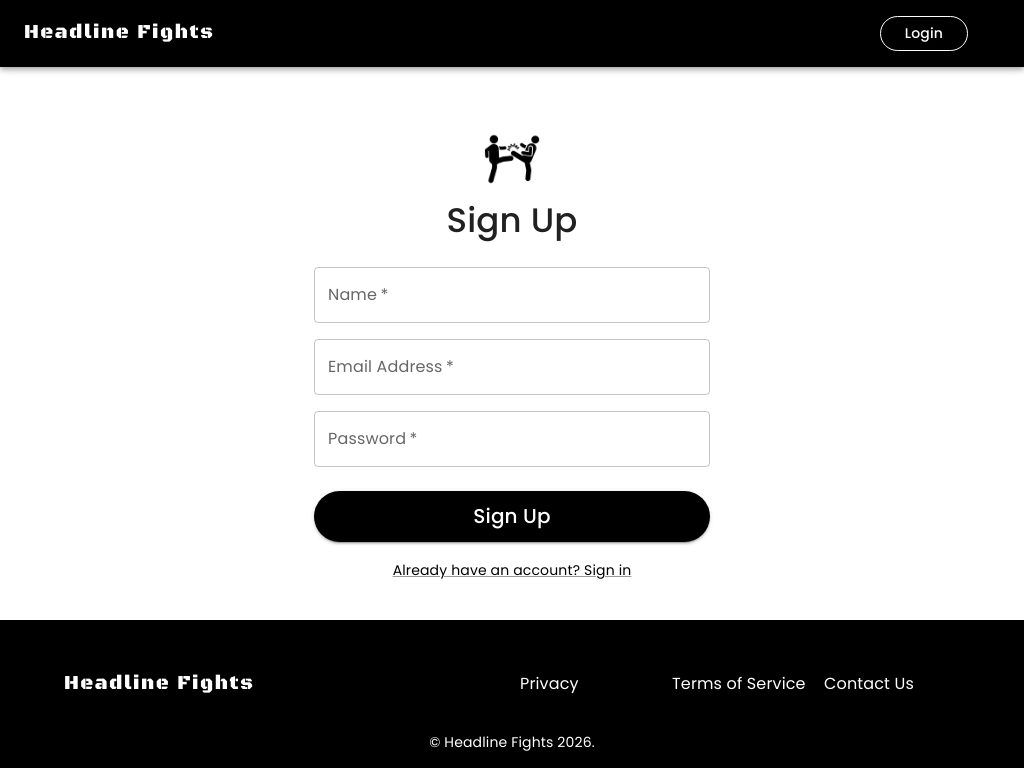
it: SignUp page › shows validation error for weak password
Type "Test User" into the field labelled "Name *" at (512, 296), box [314,268,710,324]
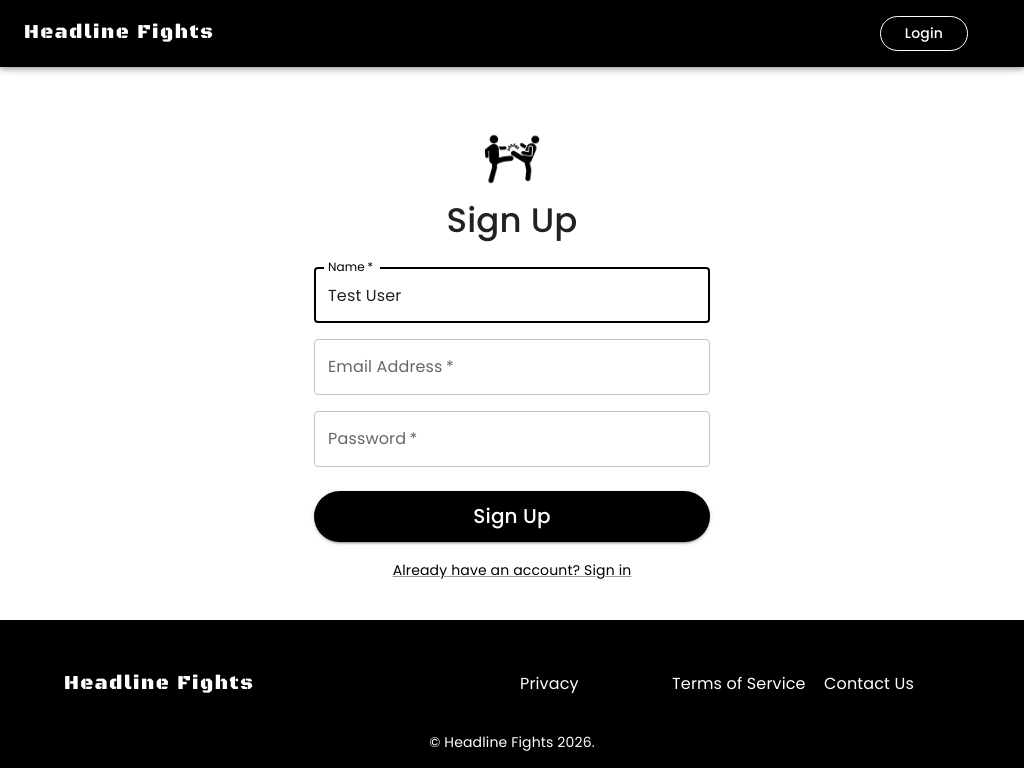
Type "test@example.com" into the field labelled "Email Address *" at (512, 368), box [314,340,710,396]
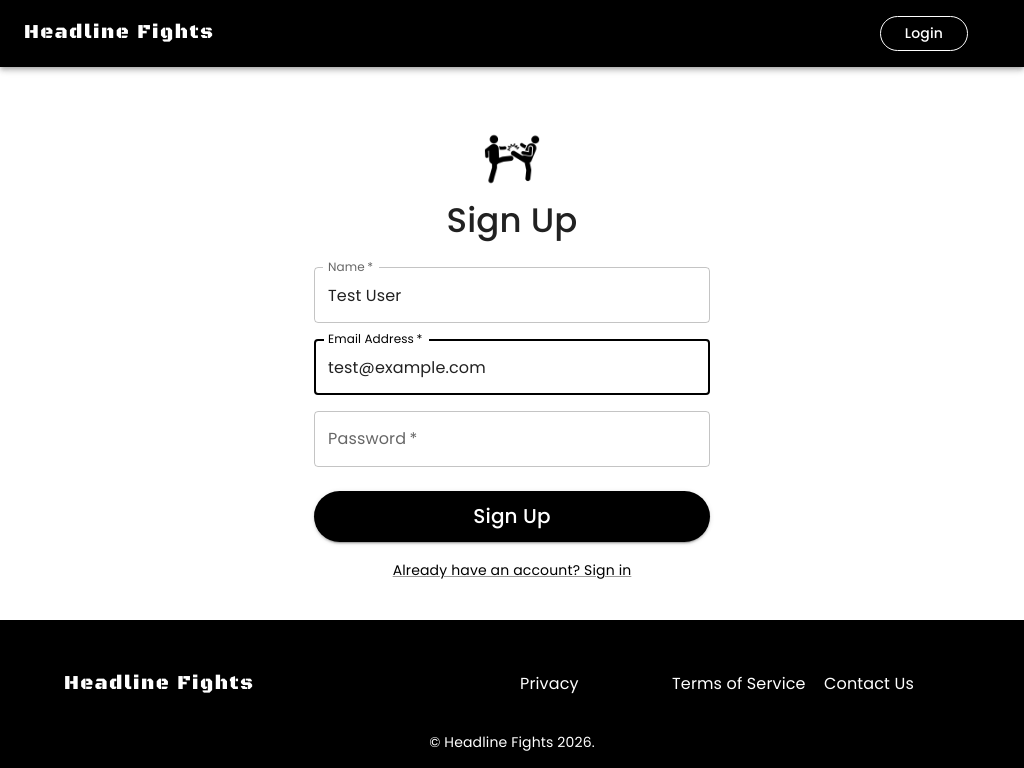
Type "weak" into the password field labelled "Password *" at (512, 440), box [314,412,710,468]
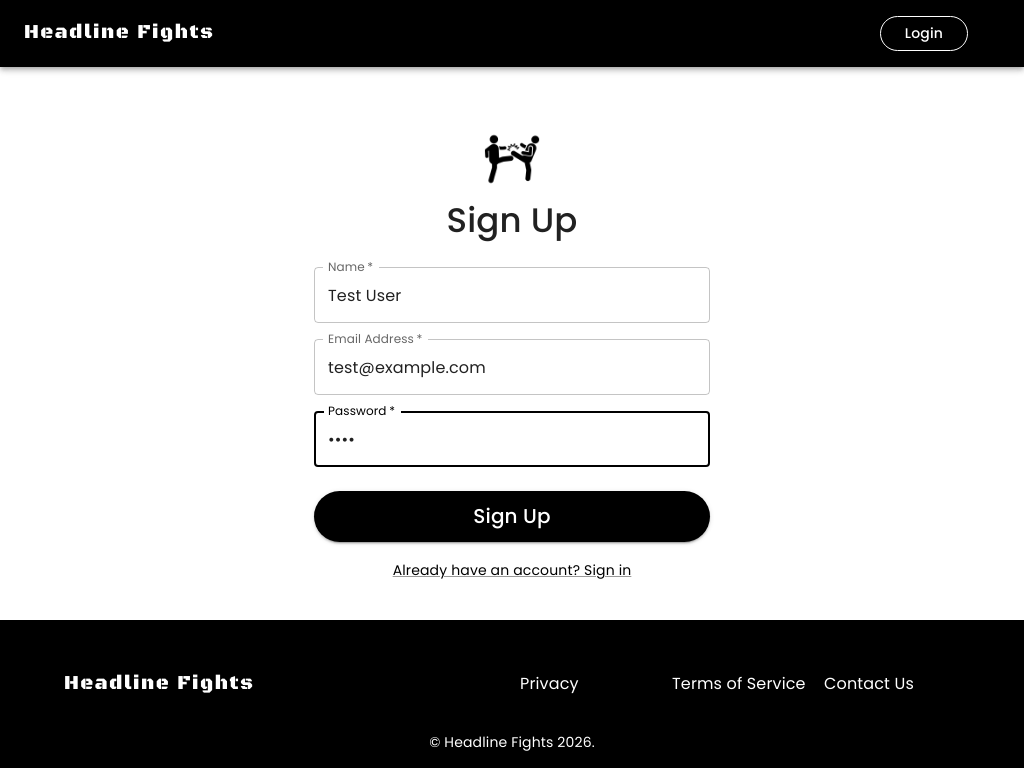
Submit the form "Sign Up", box [314,268,710,582]
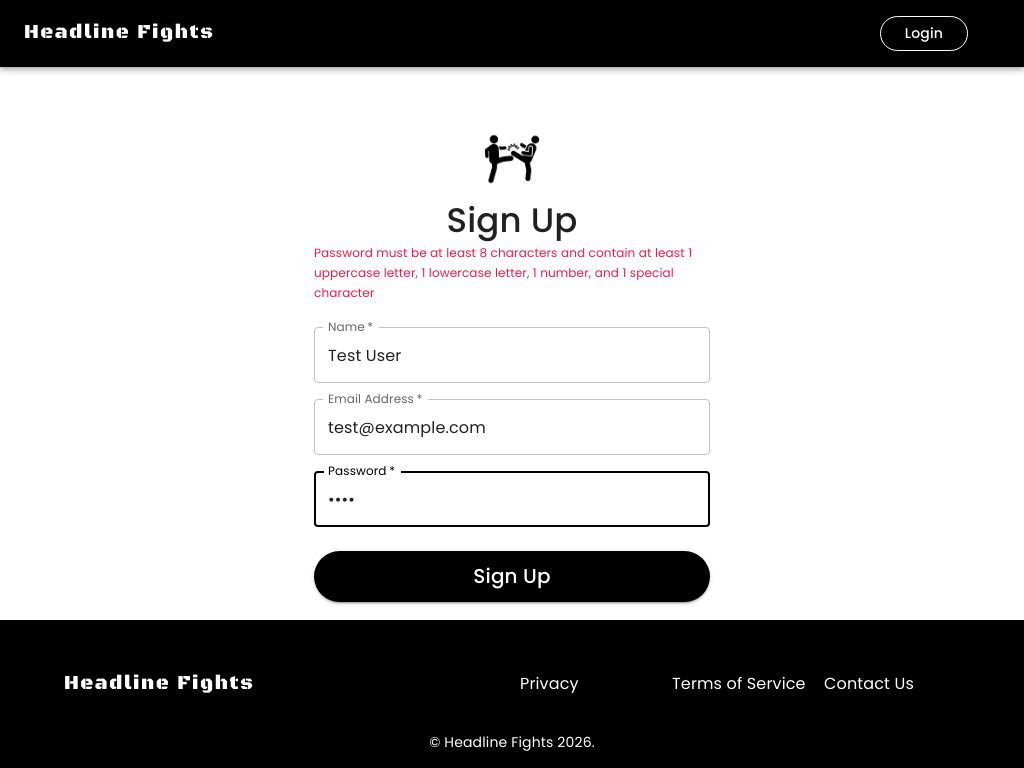
Now the text "at least 8 characters" is shown, box [314,244,692,301]
